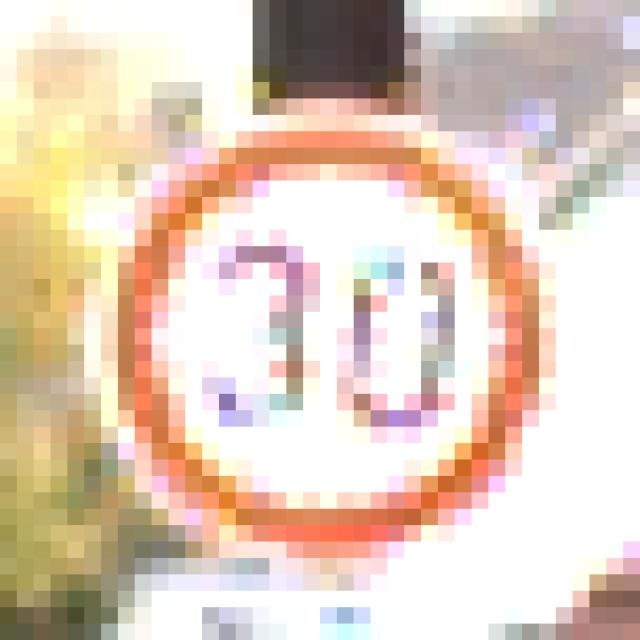Speed Limit -30-: (76, 90, 530, 534)
